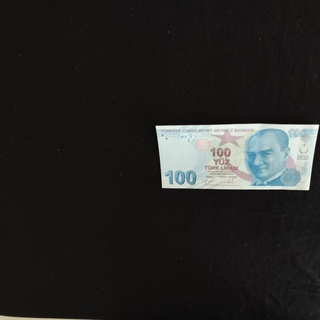100TLFront: (154, 123, 319, 191)
